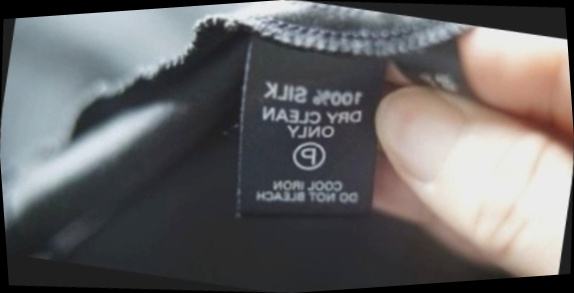dry_clean_any_solvent_except_trichloroethylene: (284, 132, 333, 178)
